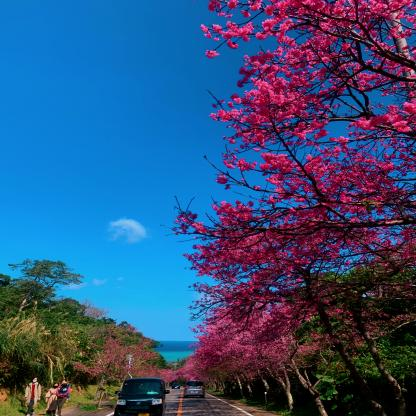KanhiSakura: (175, 0, 416, 329), (211, 306, 318, 368), (67, 323, 160, 382), (204, 322, 256, 376), (185, 340, 222, 376), (130, 359, 165, 380), (177, 365, 196, 383), (154, 368, 178, 382)
